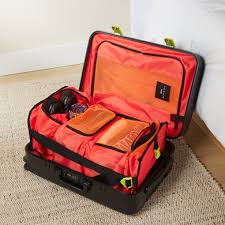suitcase: (22, 31, 206, 219)
